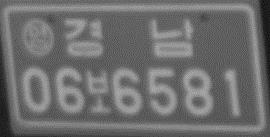0: (20, 66, 53, 115)
1: (220, 67, 247, 119)
5: (145, 65, 177, 115)
6: (112, 67, 144, 115), (54, 65, 85, 114)
8: (180, 67, 214, 118)
경남_D: (60, 16, 196, 60)
보: (83, 67, 112, 118)
영: (20, 17, 56, 58)
